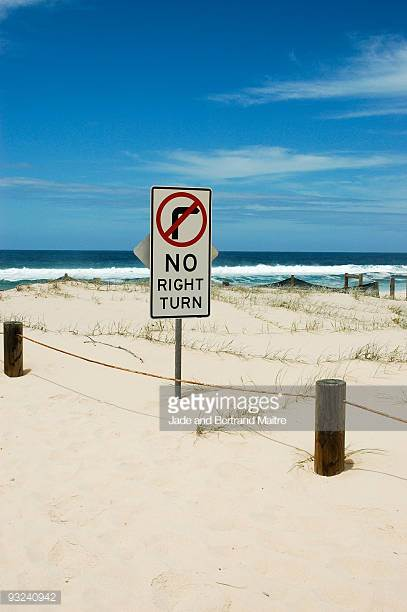No_right_turn: (157, 191, 208, 247)
